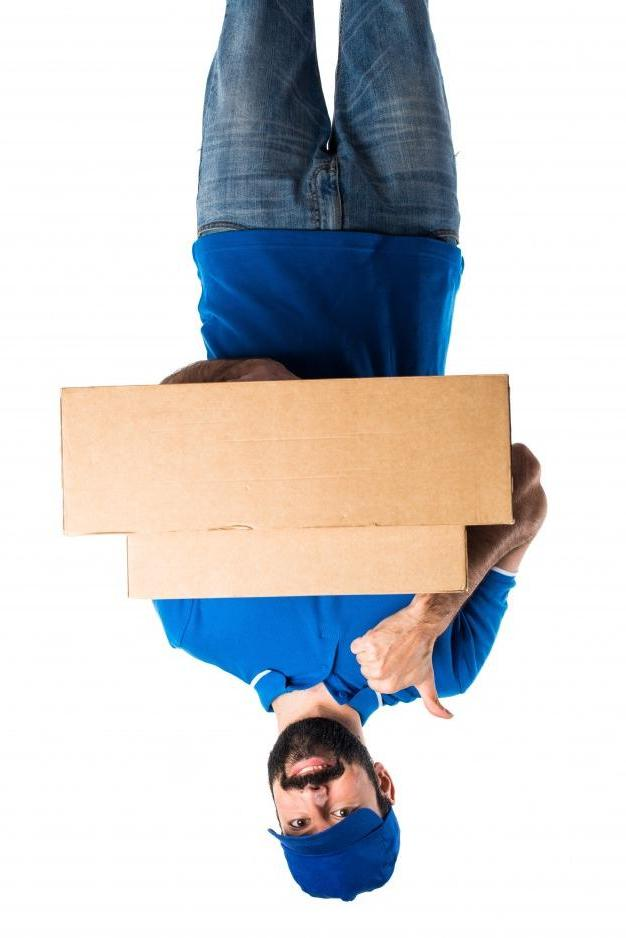thumbsdown: (350, 633, 454, 720)
